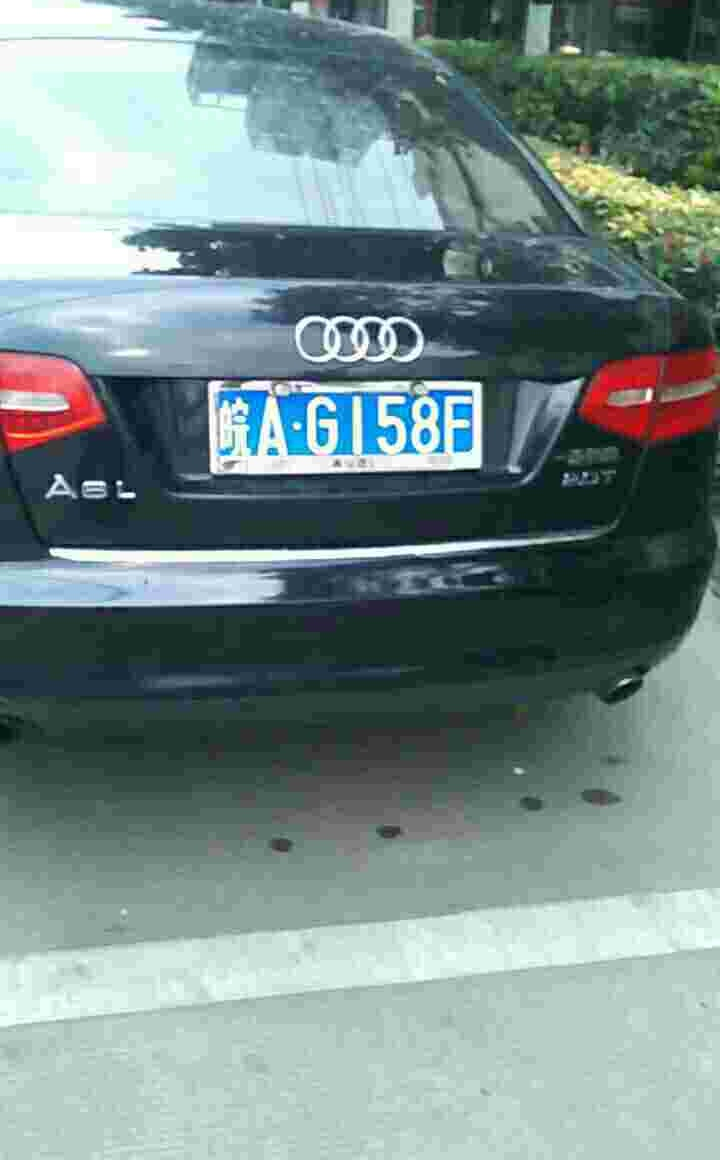license_plate: (218, 384, 490, 449)
